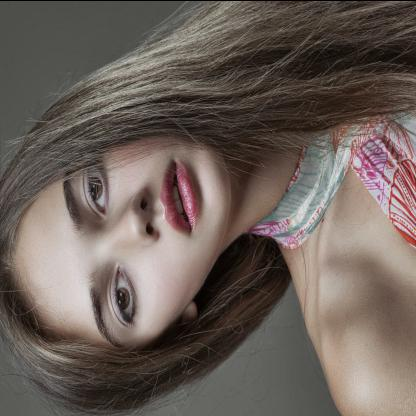Eye: (106, 259, 142, 334), (74, 156, 116, 220)
Mouth: (156, 151, 202, 245)
Nose: (106, 184, 160, 260)
